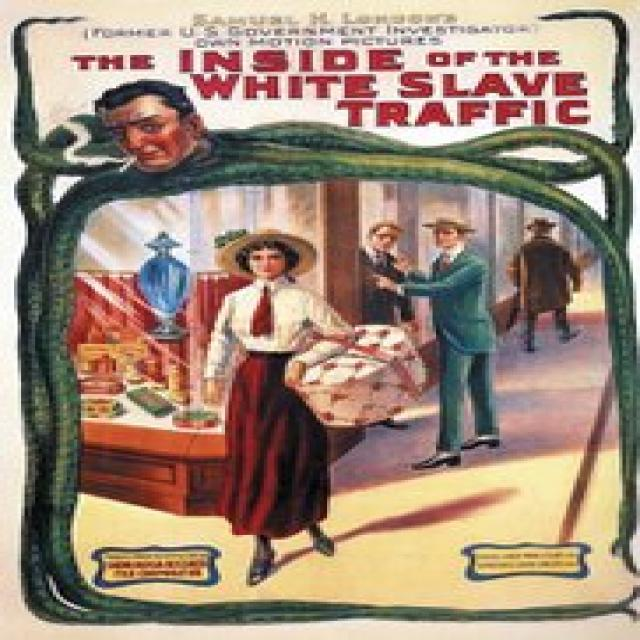movie-judul: (66, 44, 596, 130)
picture: (88, 208, 603, 600), (94, 78, 214, 174)
